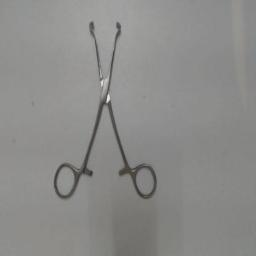Babcock Tissue Forceps: (49, 18, 161, 204)
